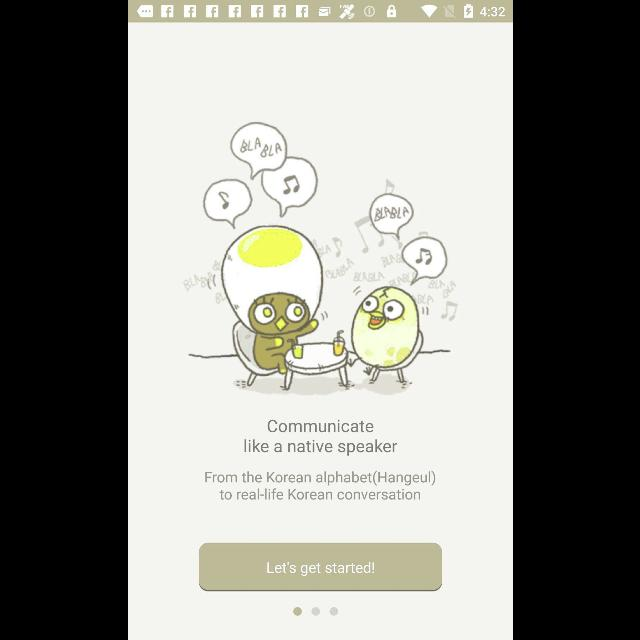image: (181, 121, 457, 396)
pageindicator: (292, 606, 338, 616)
text: (204, 470, 436, 500), (243, 419, 397, 456)
textbutton: (198, 542, 442, 592)
uppertaskbar: (128, 1, 512, 23)
